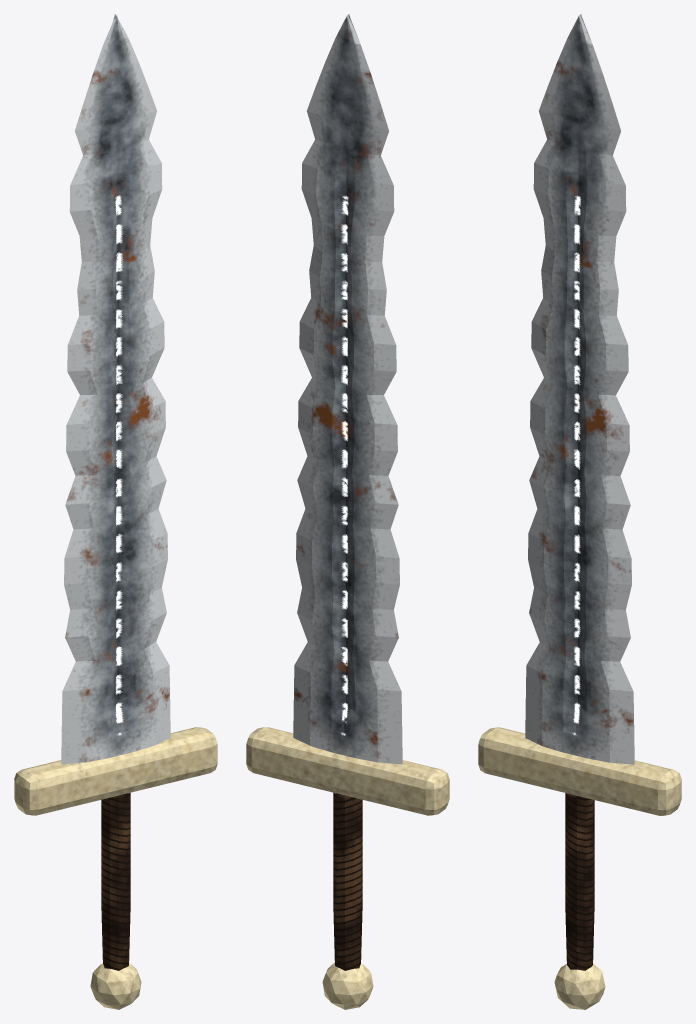
File: Greatsword.fbx
The picture shows the model from 3 angles, left to right: view 1: azimuth 30°, elevation 25°; view 2: azimuth 150°, elevation 25°; view 3: azimuth 330°, elevation 25°; orthographic projection.
Parts seen in each view (by area): view 1: Greatsword; view 2: Greatsword; view 3: Greatsword.
Boxes of the visible parts, bbox=[...] form: Greatsword: bbox=[14, 14, 217, 1009]; Greatsword: bbox=[246, 14, 449, 1009]; Greatsword: bbox=[478, 14, 681, 1009].
Bounding box in the file's own units: 0.6 × 2.94 × 0.14.
